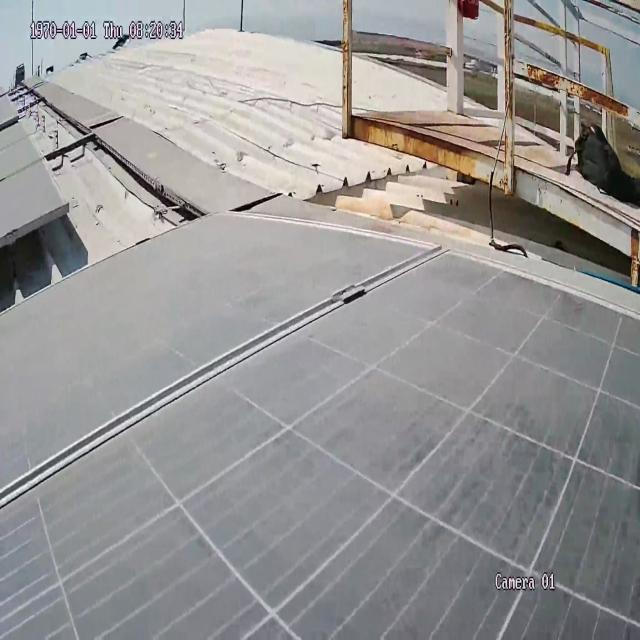interior panel: (0, 225, 463, 541)
